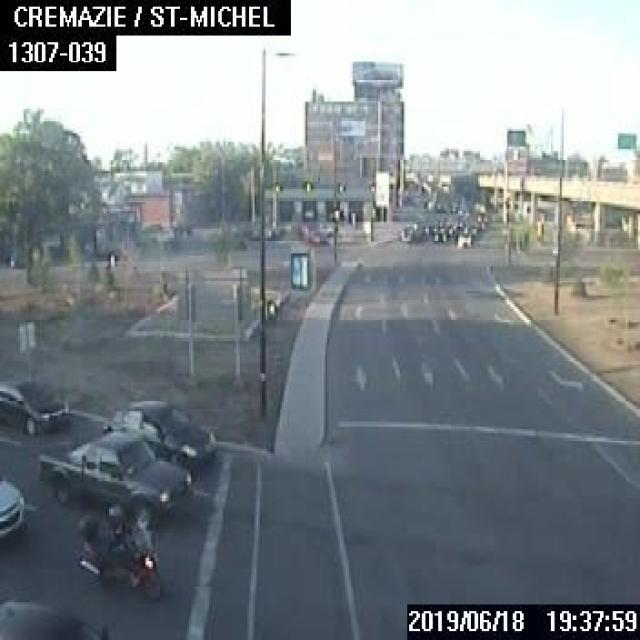vehicle: (37, 430, 190, 526), (72, 502, 160, 601), (103, 397, 216, 468), (0, 369, 69, 438), (0, 598, 105, 638), (0, 478, 24, 538), (455, 228, 471, 247), (431, 228, 446, 242)
